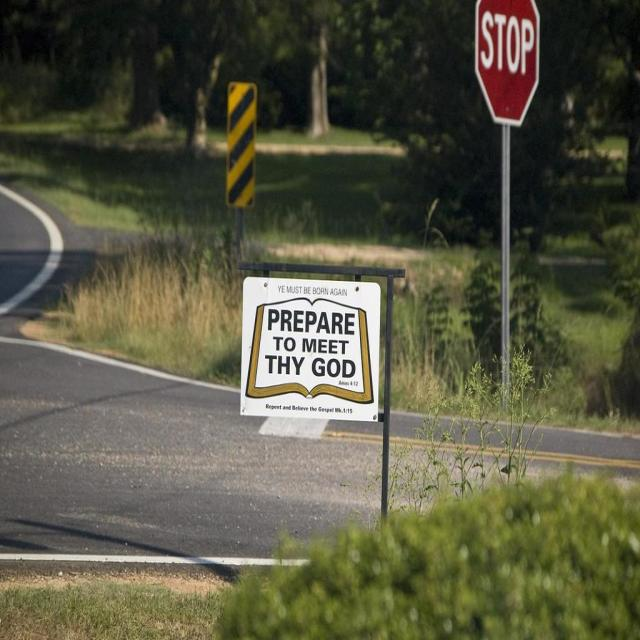Stop-sign: (474, 0, 541, 127)
